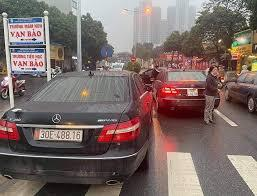number_plate: (38, 127, 83, 142)
